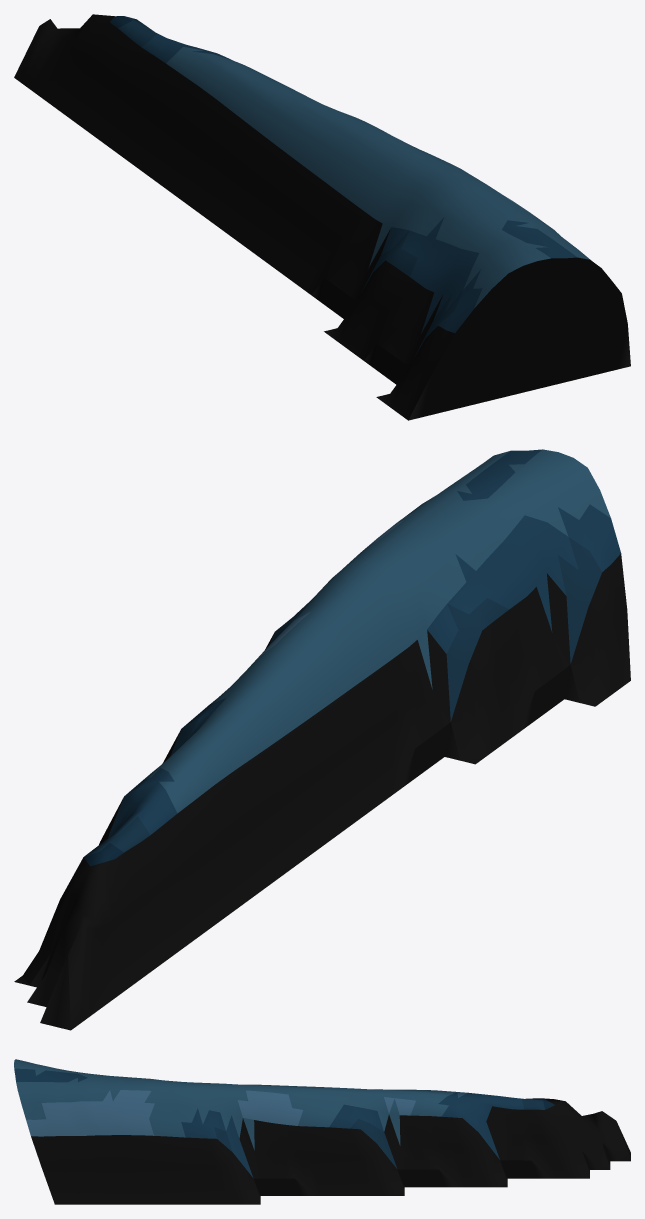
File: gryphon_9.glb
3 views of the same model, one above another, from view 1: azimuth 30°, elevation 25°; view 2: azimuth 150°, elevation 25°; view 3: azimuth 270°, elevation 25° (orthographic). The views are drawn at different scales.
Visible parts, largest first — view 1: gryphon_9; view 2: gryphon_9; view 3: gryphon_9.
Boxes of the visible parts, left/top/right/bottom form: gryphon_9: left=14, top=14, right=630, bottom=420; gryphon_9: left=14, top=449, right=630, bottom=1030; gryphon_9: left=14, top=1059, right=630, bottom=1204.
Bounding box in the file's own units: 8 × 5.47 × 29.99.
